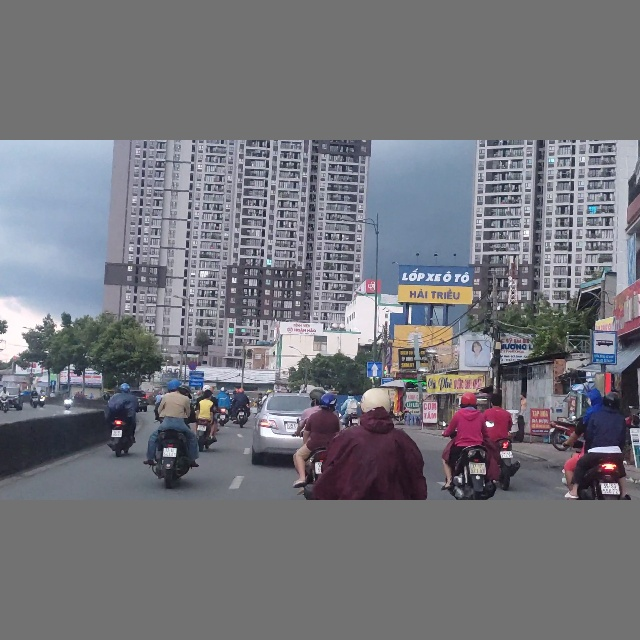I.407a: (367, 361, 383, 377)
I.434a: (591, 331, 618, 365)
P.130: (188, 361, 197, 370)
